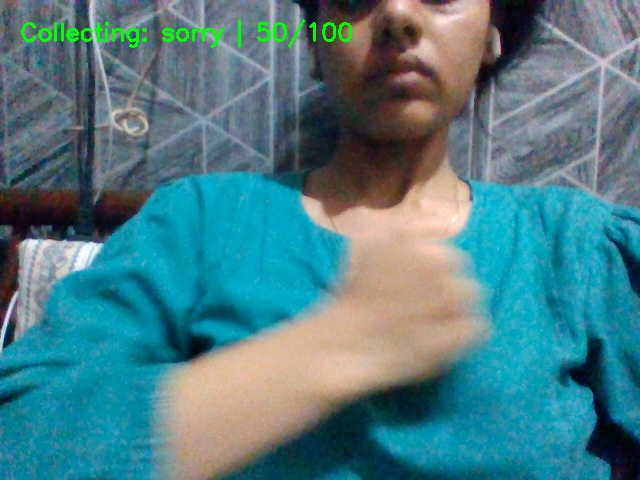sorry: (314, 228, 503, 413)
